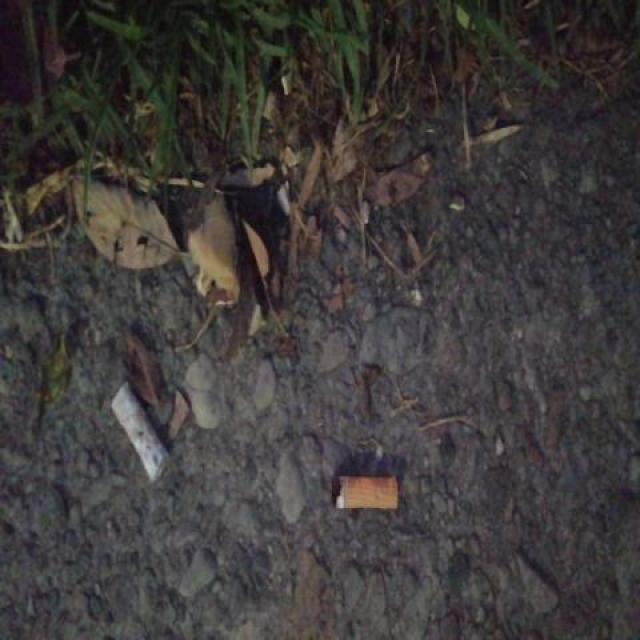non-organic waste: (107, 375, 177, 492), (324, 467, 405, 517)
